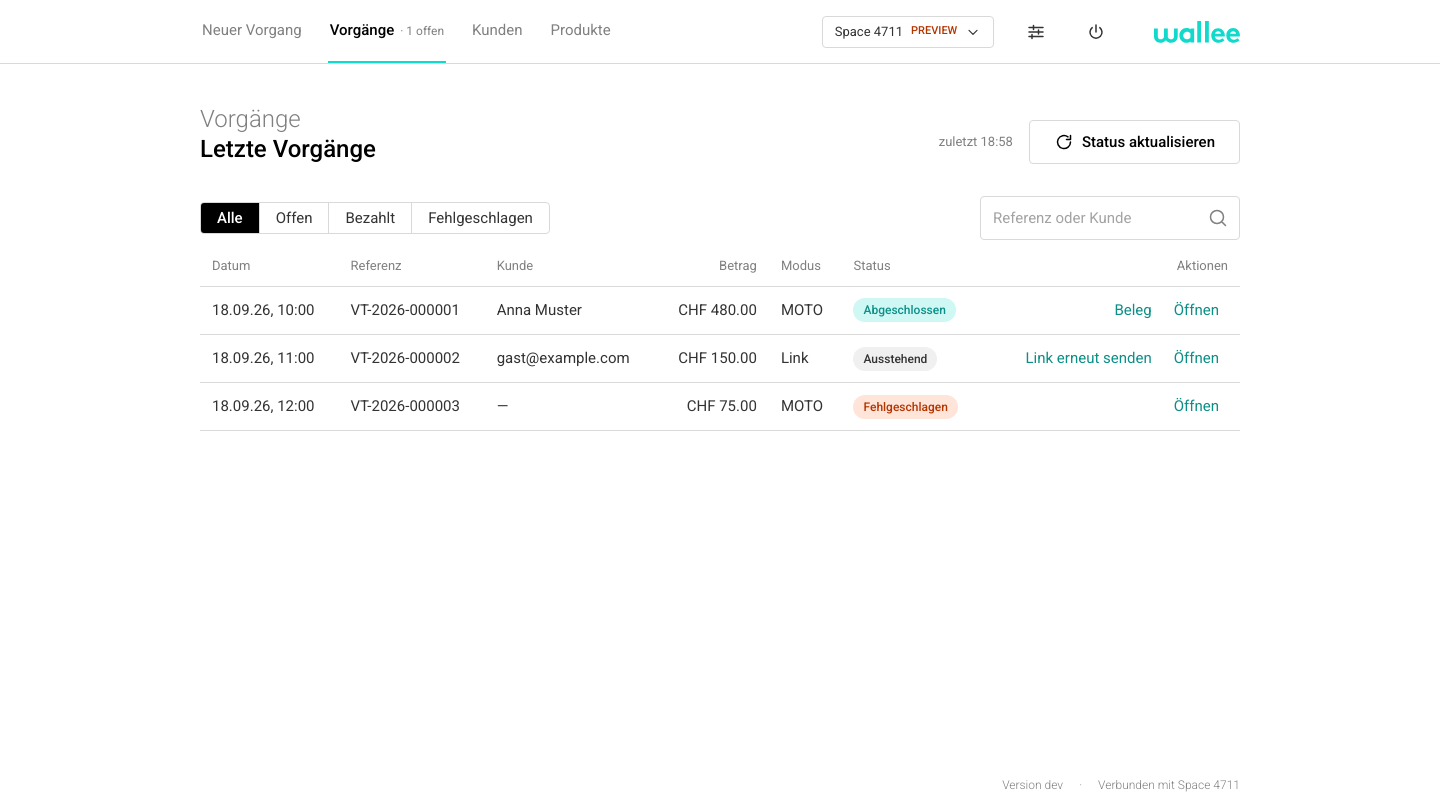
HistoryPage › lists transactions from wallee, filters them and counts open links
expect the text "VT-2026-000001" is shown: met, box [351, 301, 460, 319]
expect the text "Anna Muster" is shown: met, box [485, 286, 656, 334]
Click the radio button labelled "Offen": (294, 218) [260, 203, 329, 233]
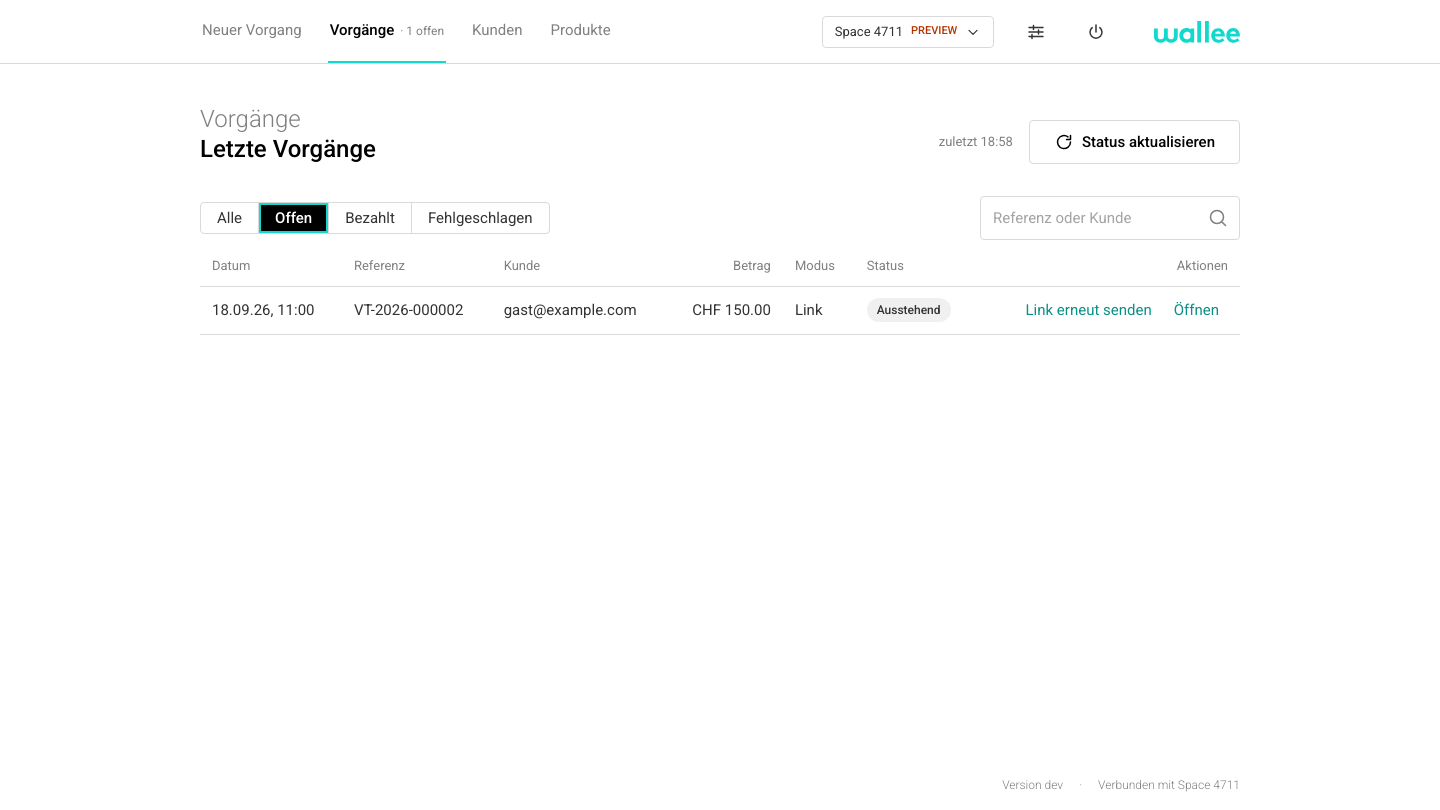
expect the text "VT-2026-000002" is shown: met, box [354, 301, 463, 319]
expect the text "VT-2026-000001" is gone: met
Click the radio button labelled "Alle": (230, 218) [201, 203, 259, 233]
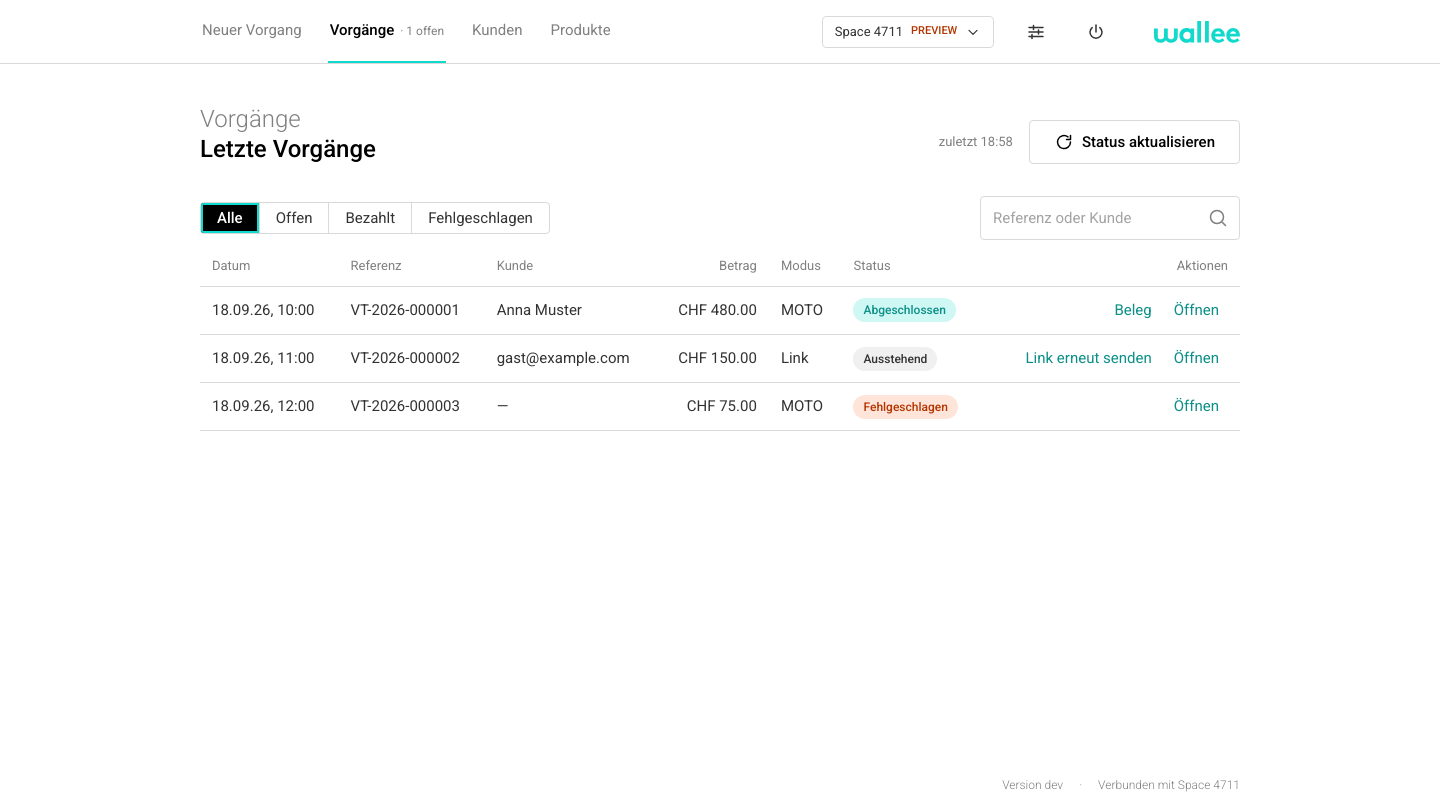
In the field labelled "Referenz oder Kunde": (1110, 218) [980, 196, 1240, 240], type "anna"
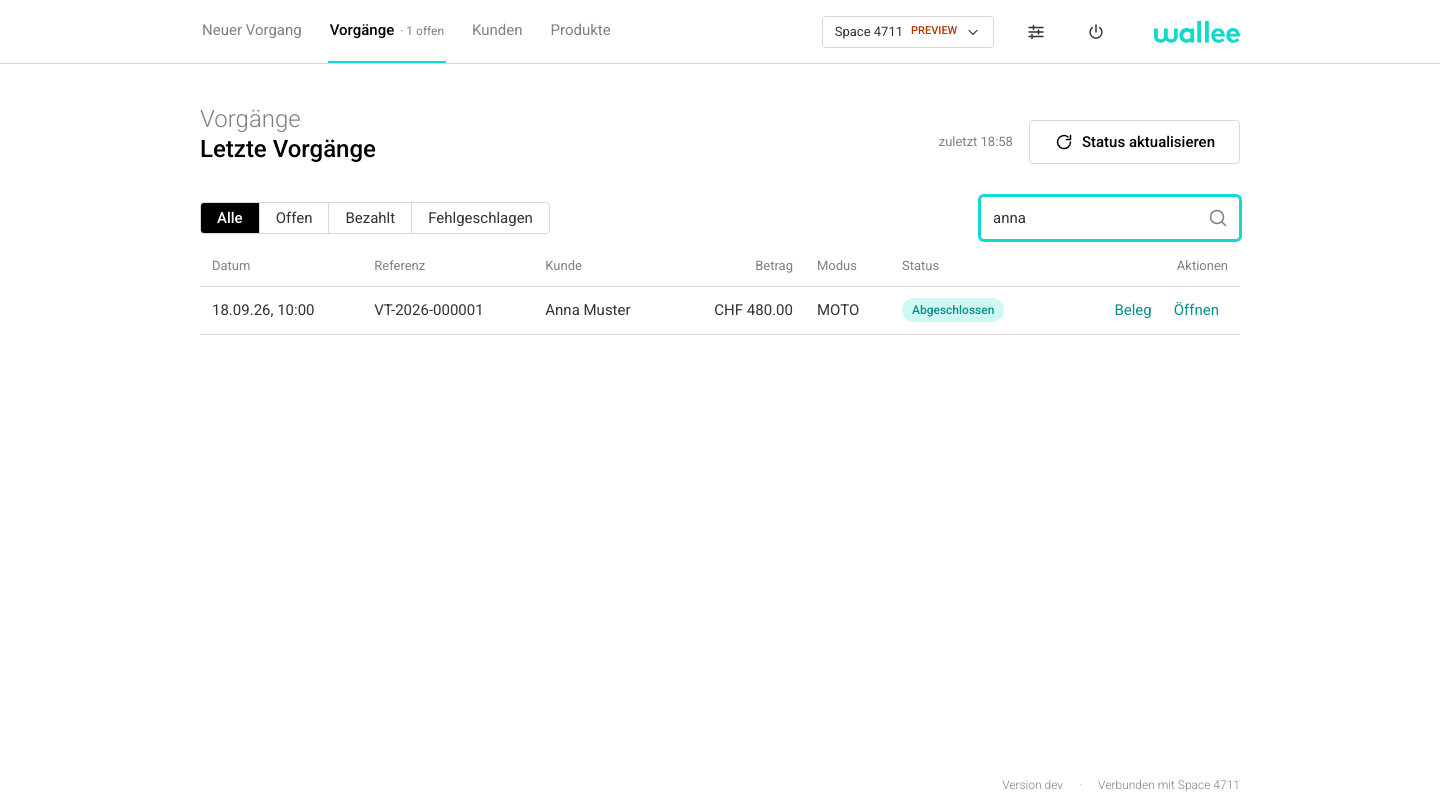
expect the text "VT-2026-000001" is shown: met, box [374, 301, 484, 319]
expect the text "VT-2026-000002" is gone: met
